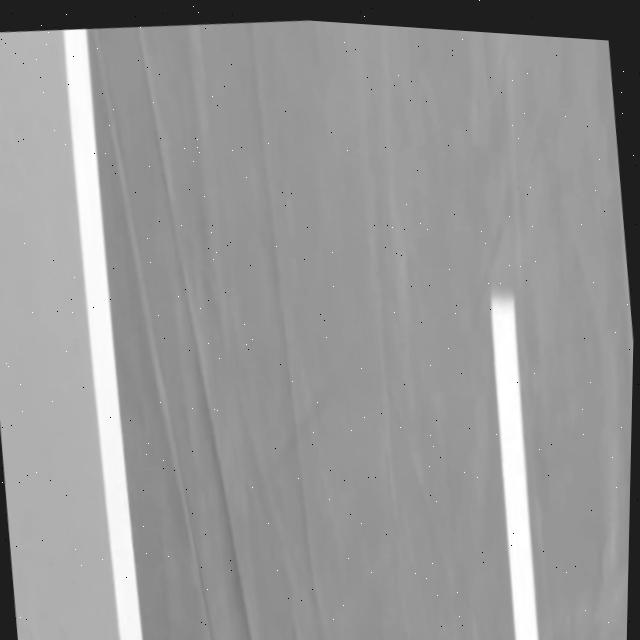center: (491, 291, 538, 640)
right: (64, 29, 142, 640)
